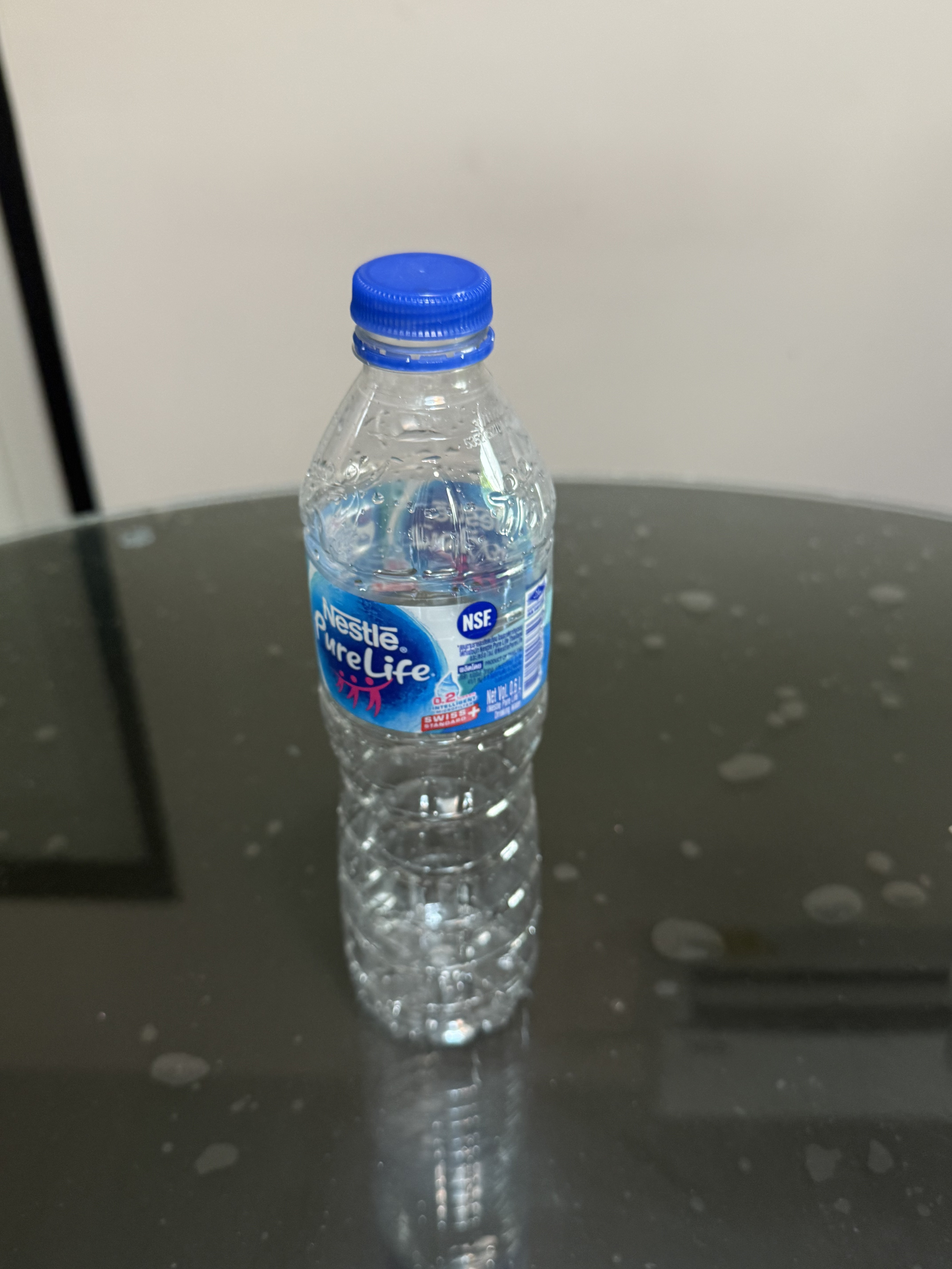half_cap: (345, 247, 498, 369)
